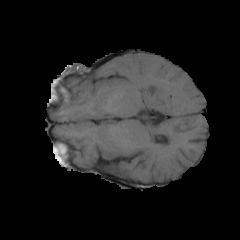glioma: (121, 73, 191, 106)
